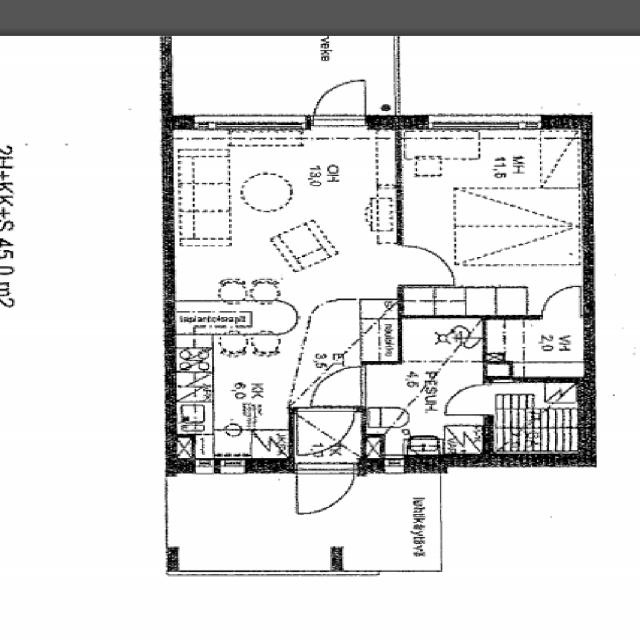door: (288, 419, 356, 518), (291, 406, 359, 459), (300, 361, 371, 411), (306, 74, 371, 128), (395, 239, 458, 288), (437, 380, 495, 420), (536, 282, 586, 320)
window: (185, 113, 308, 136)
zone: (160, 113, 403, 438), (398, 120, 590, 318), (367, 312, 485, 464), (485, 378, 588, 456), (480, 315, 590, 380), (290, 406, 360, 464)
